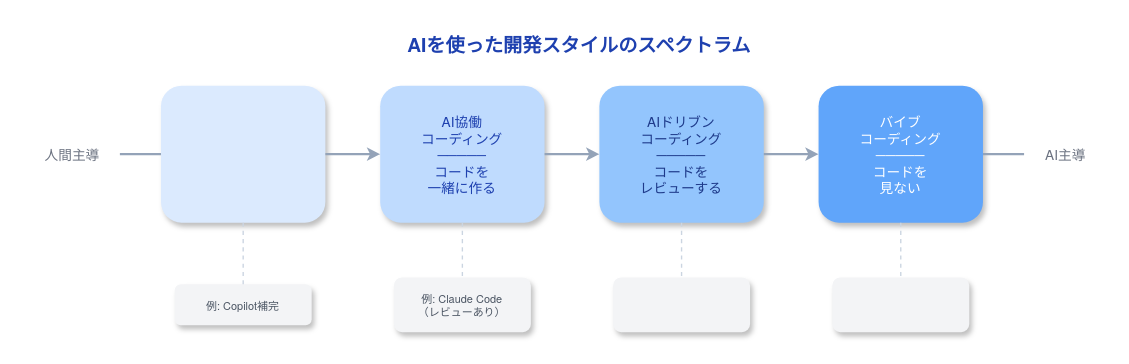
Image size: 1129x364. Some labels were removed from this diagram. Each missing label, with the centre of its shape:
"AI補助 コーディング ───── コードは 人間が書く" goes at point 244,155.
"例: Karpathy氏 提唱スタイル" goes at point 901,306.
"例: エージェント 型開発" goes at point 682,306.
